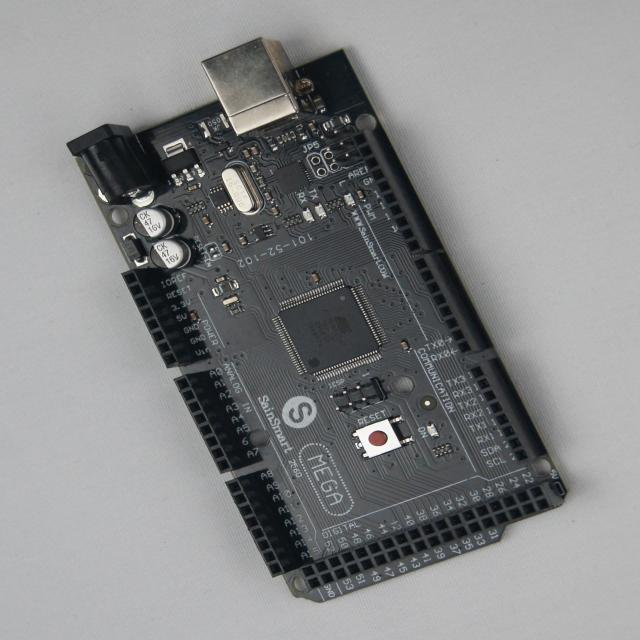Arduino Mega 2560 -Black-: (68, 39, 568, 603)
